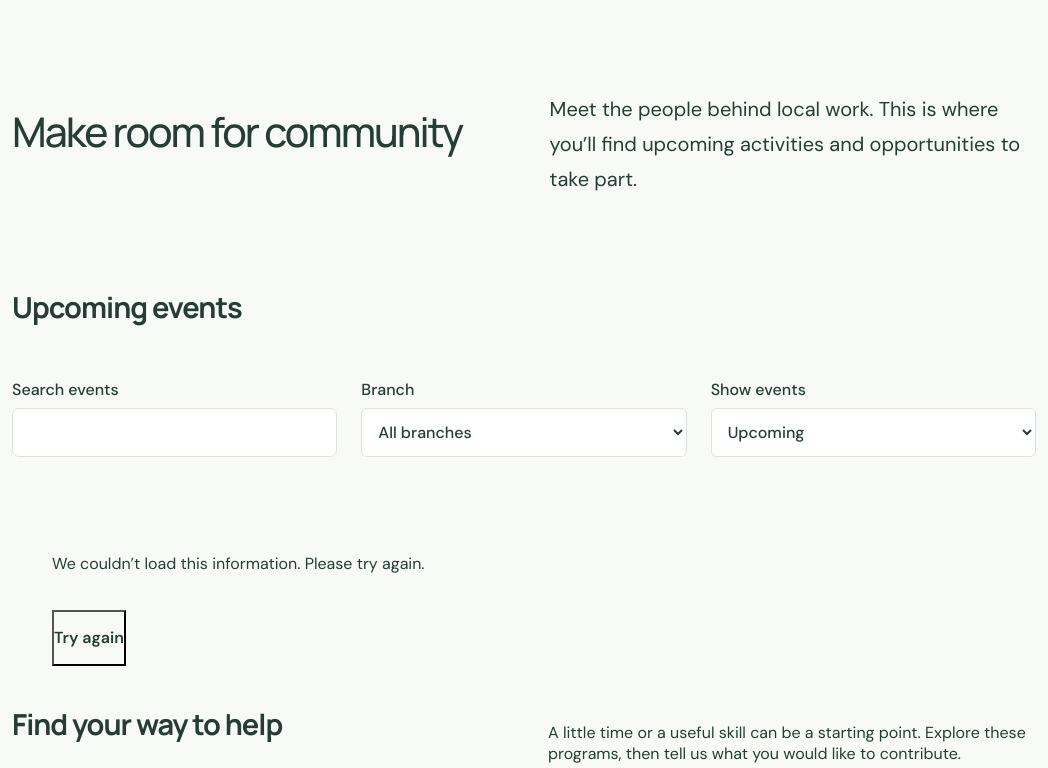
Test: network failure offers retry instead of claiming there are no records
This screenshot has width=1048, height=768.
Expected: the message shows "couldn’t load", [52, 553, 424, 574]
Click the button "Try again" at (89, 638), box [52, 610, 126, 666]
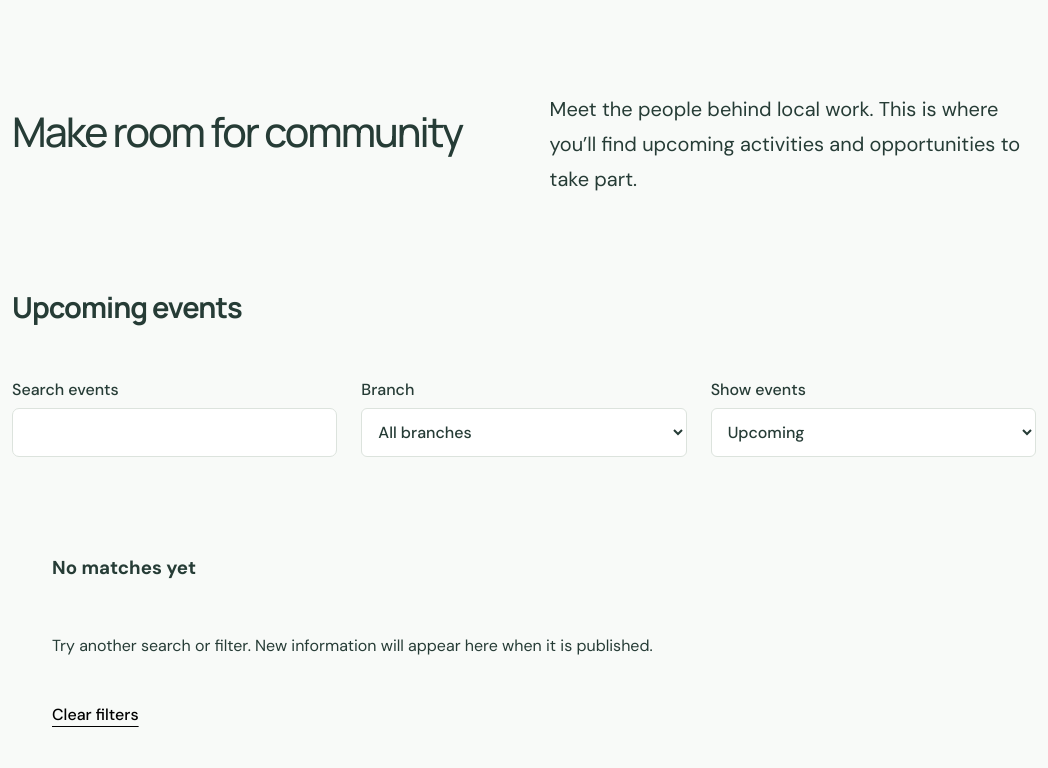
Now the heading "No matches yet" is shown, box [52, 555, 196, 580]
